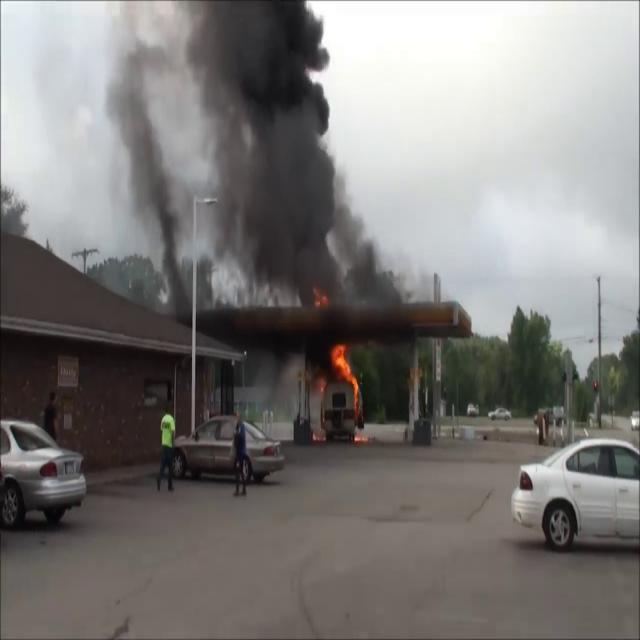Fire: (328, 339, 362, 404)
Smoke: (184, 1, 400, 310), (100, 11, 194, 305)
